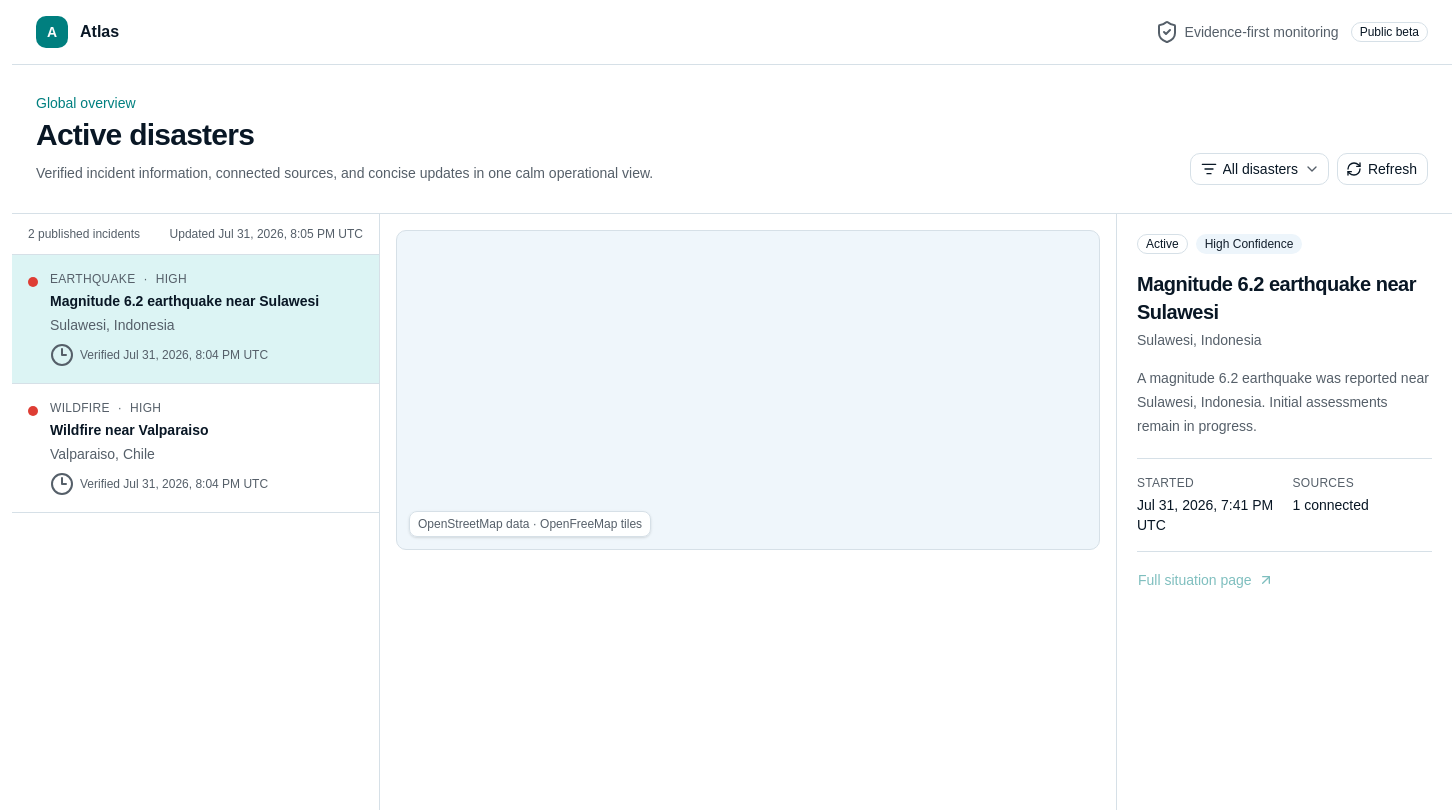
public disaster overview › filters the incident list and map by disaster type
This screenshot has width=1452, height=810.
Expected: the button "Wildfire near Valparaiso" is shown, [12, 384, 379, 513]
Step 1. Click the dropdown named "Filter by disaster type" → (1259, 169), box [1190, 153, 1329, 185]
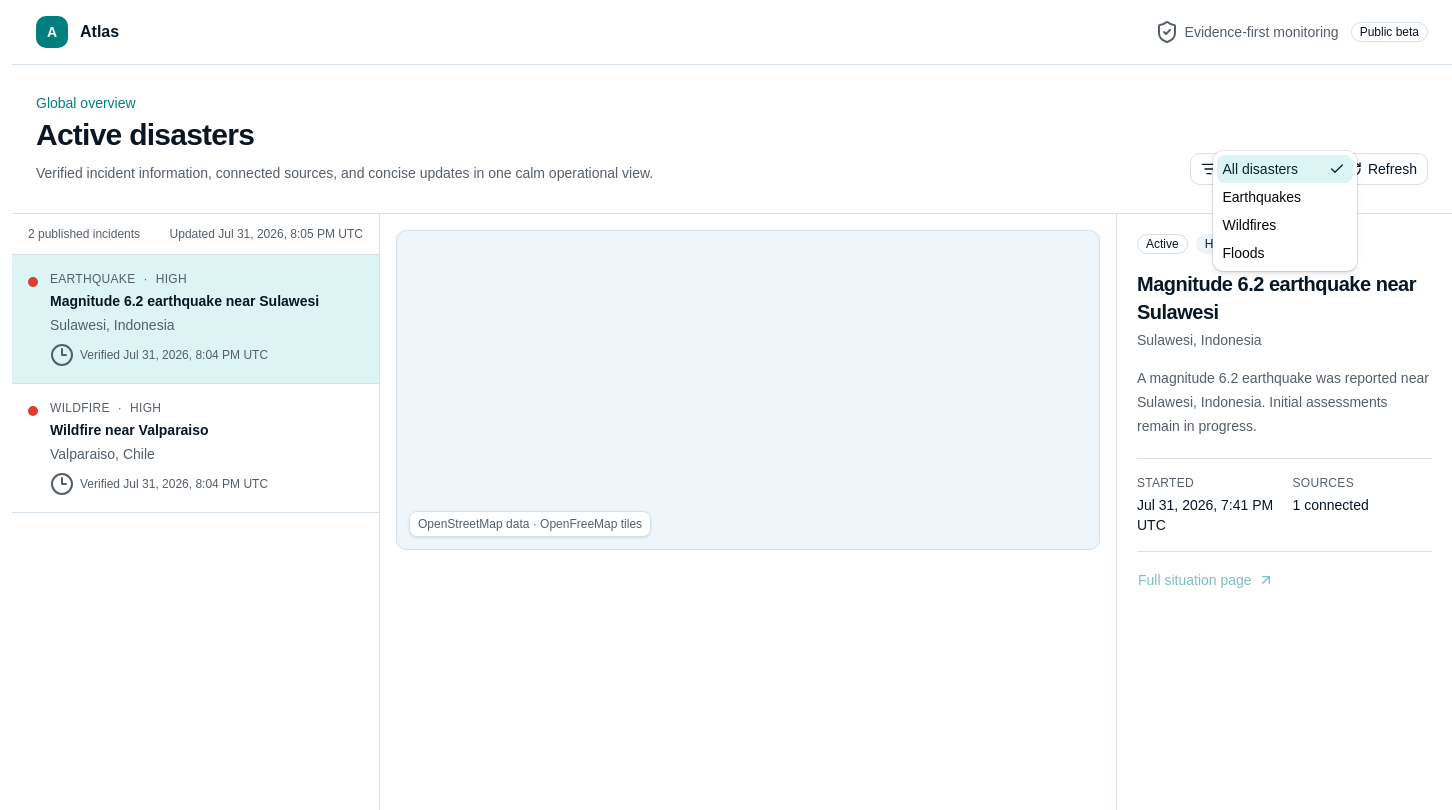
Step 2. Click the option "Earthquakes" → (1262, 197), box [1222, 189, 1301, 205]
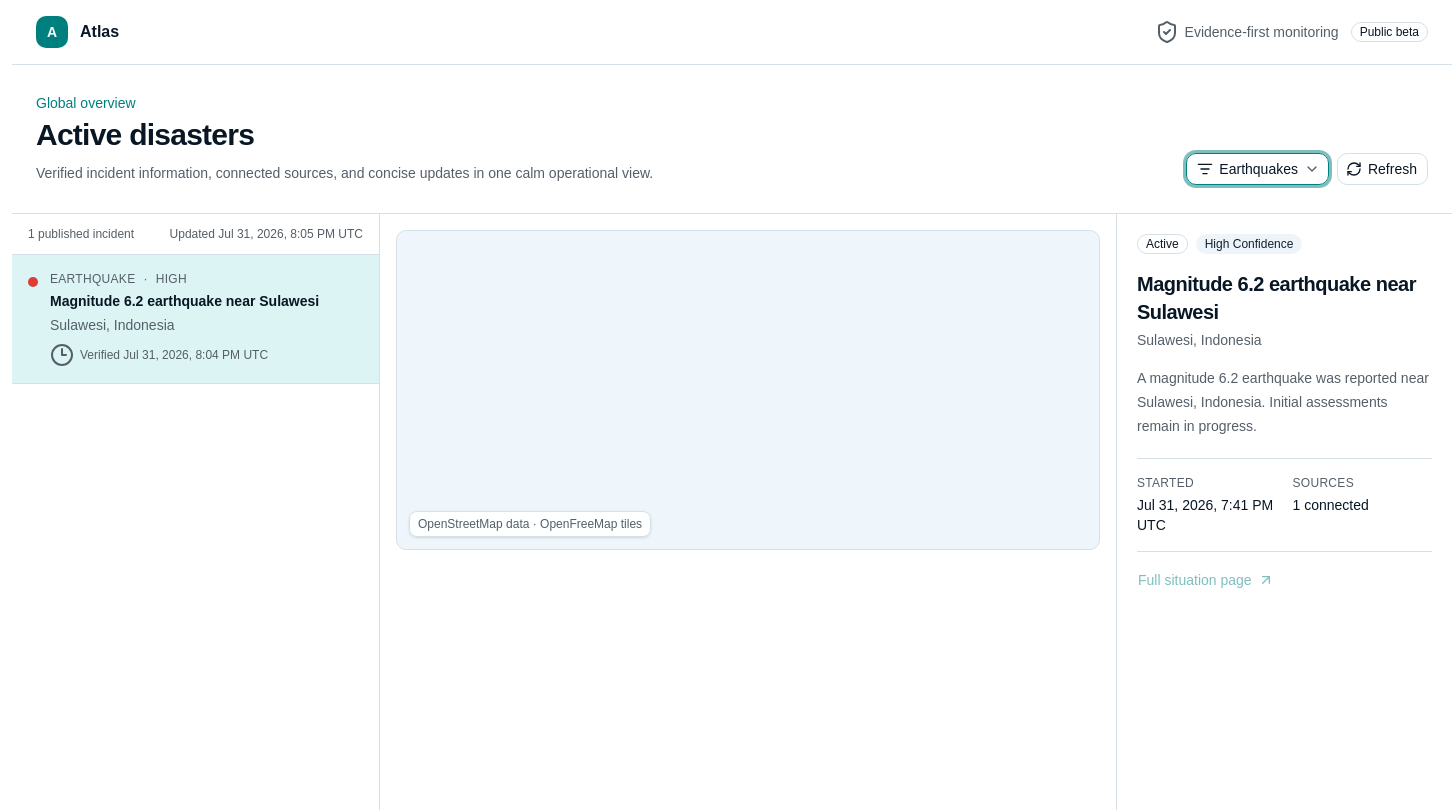
Expected: the button "Magnitude 6.2 earthquake near Sulawesi" is shown, [12, 255, 379, 384]
Now the button "Wildfire near Valparaiso" is gone
Now the text "1 published incident" is shown, box [28, 226, 134, 242]
